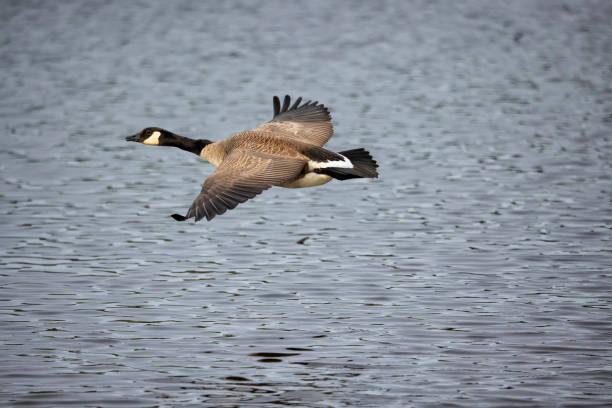Canadian-Goose: (119, 94, 386, 226)
